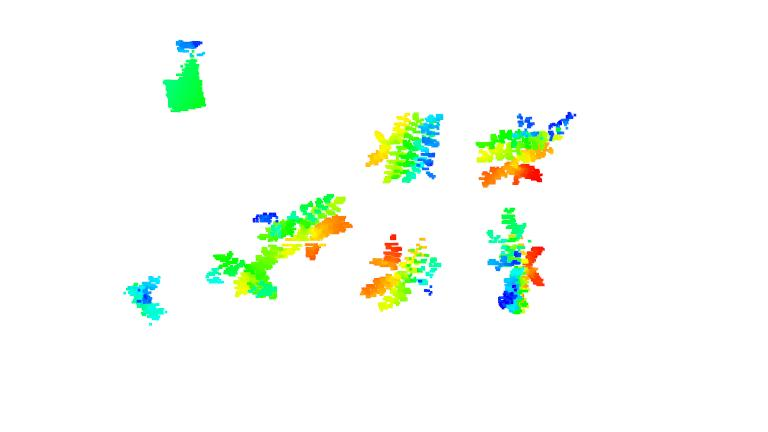chickpea: (473, 112, 580, 191), (484, 204, 548, 314), (356, 232, 444, 311), (364, 107, 446, 185), (255, 196, 356, 255), (207, 249, 292, 300), (123, 274, 174, 323)
